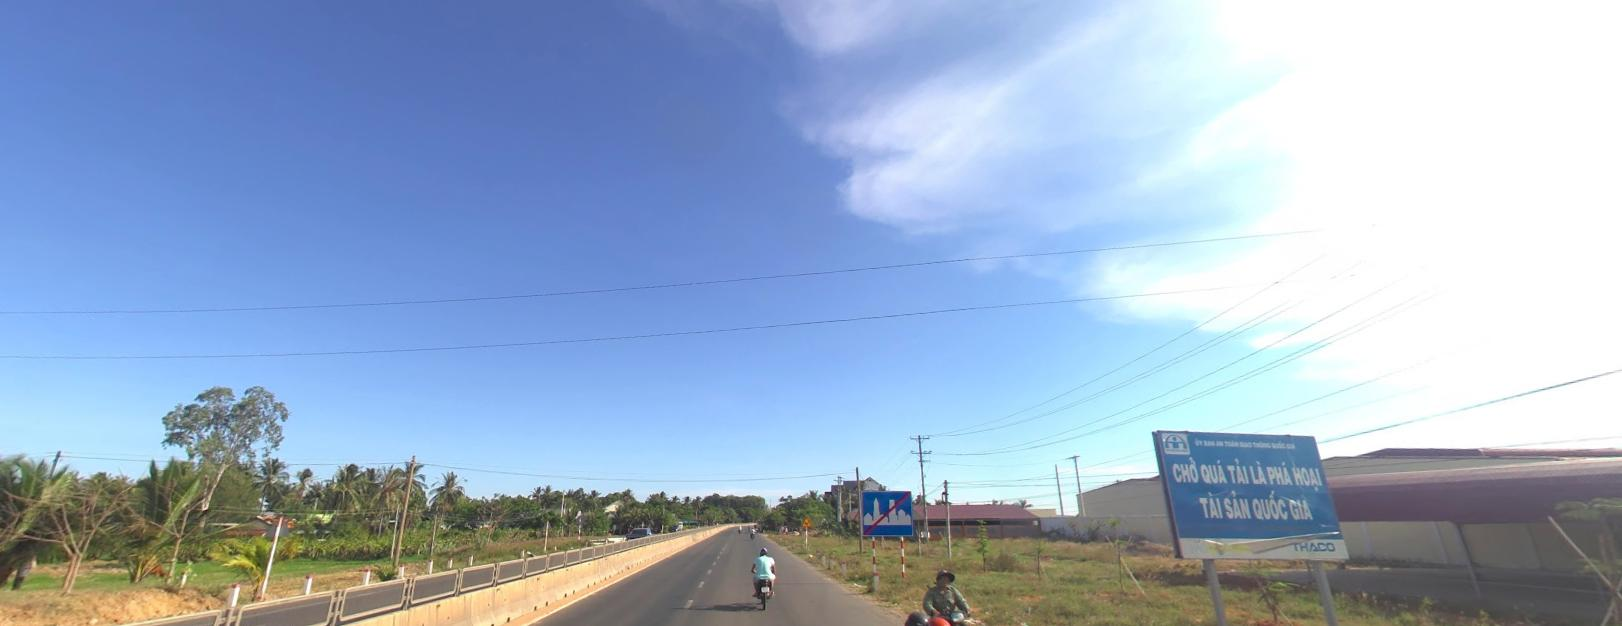Nguy hiem: (801, 516, 812, 526)
